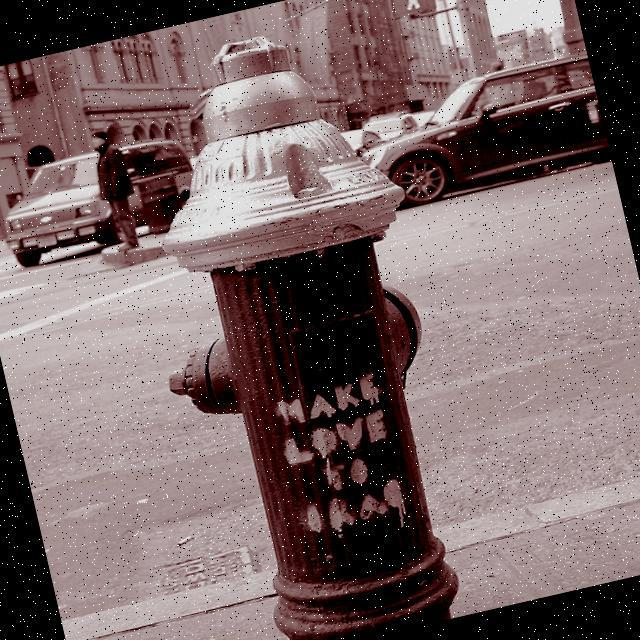fire_hydrant: (92, 8, 502, 640)
